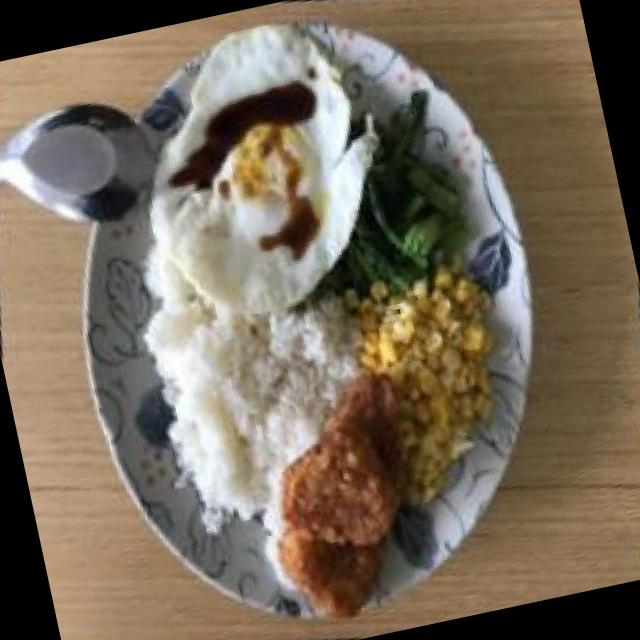fried_eggs: (102, 0, 413, 352)
rice: (120, 284, 360, 528)
triangle_hash_brown: (232, 353, 447, 640)
water_spinach: (296, 91, 488, 322)
